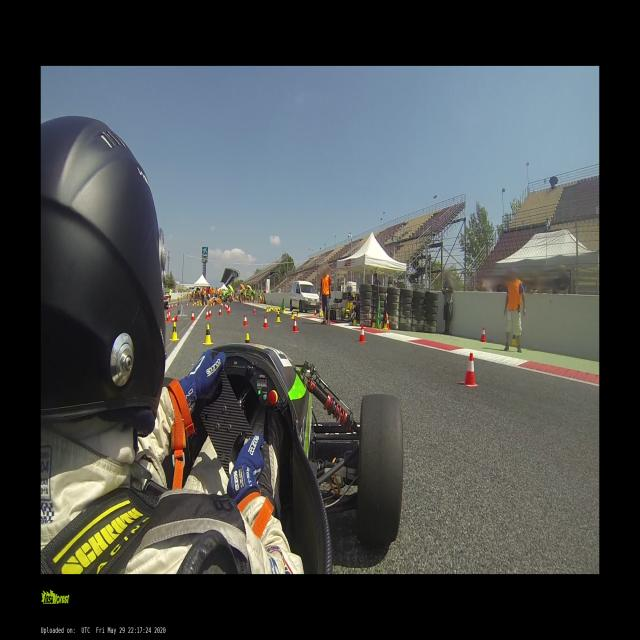orange_cone: (462, 353, 479, 387), (358, 324, 367, 342), (291, 317, 298, 332), (479, 328, 486, 340), (262, 315, 268, 328), (242, 314, 248, 326), (190, 310, 195, 322), (167, 310, 172, 321), (166, 310, 170, 322), (205, 310, 209, 319), (208, 309, 212, 318), (387, 317, 390, 329), (171, 315, 177, 320), (218, 308, 222, 315), (252, 307, 256, 314), (313, 309, 317, 316), (228, 308, 230, 314), (186, 302, 188, 308), (175, 303, 177, 309), (169, 304, 170, 312), (171, 304, 172, 309)
yellow_cone: (202, 324, 213, 345), (170, 322, 179, 340), (510, 332, 517, 346), (352, 313, 357, 326), (276, 311, 281, 322), (383, 318, 387, 329), (372, 316, 376, 327), (246, 333, 250, 343), (290, 310, 294, 318), (282, 306, 286, 313), (296, 308, 299, 316), (268, 306, 270, 312), (266, 306, 268, 312)
